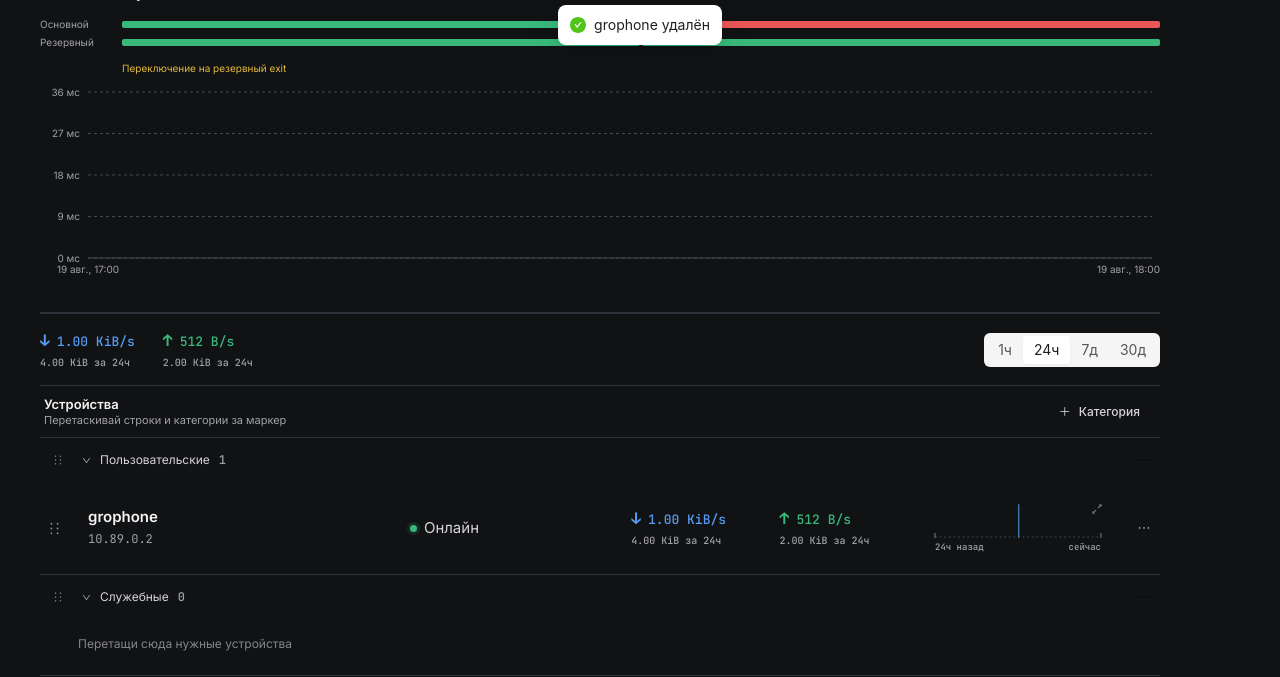
it: WireGuardPage › places a fresh sparse bucket near the end of the selected preview timeline
(page scrolled)
Click the radio button labelled "7д": (1090,349) x1=1081 y1=341 x2=1098 y2=358
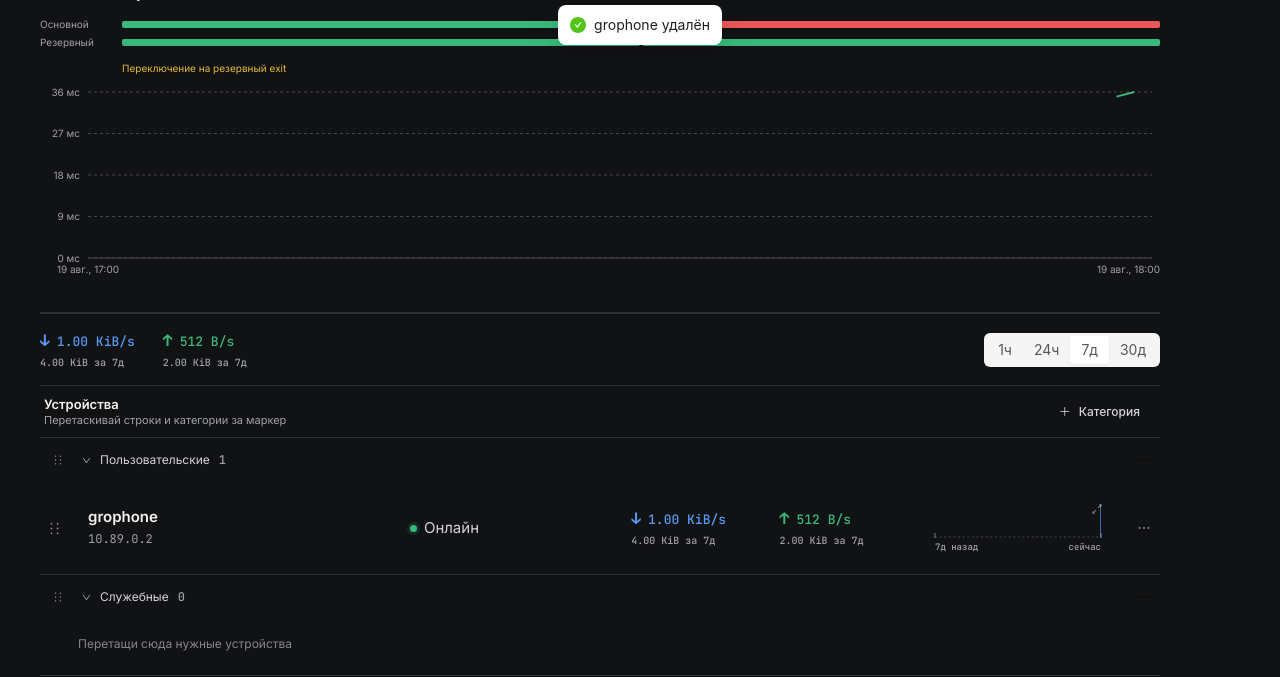
Check: the text "сейчас" is shown, box x1=1069 y1=542 x2=1101 y2=553
Check: the text "7д назад" is shown, box x1=935 y1=542 x2=978 y2=553
